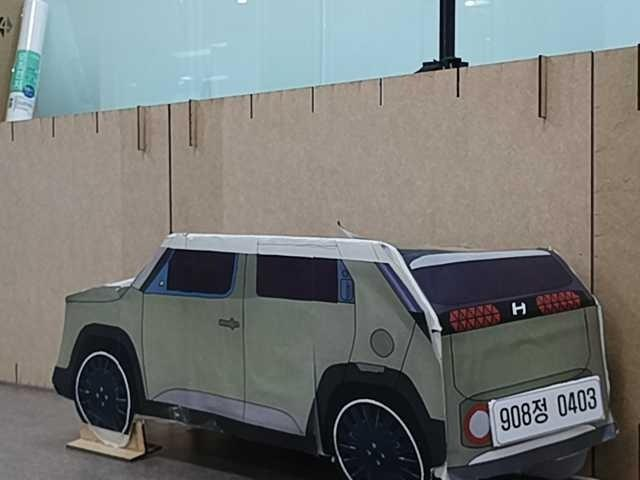car: (54, 233, 617, 479)
id: (490, 376, 604, 447)
